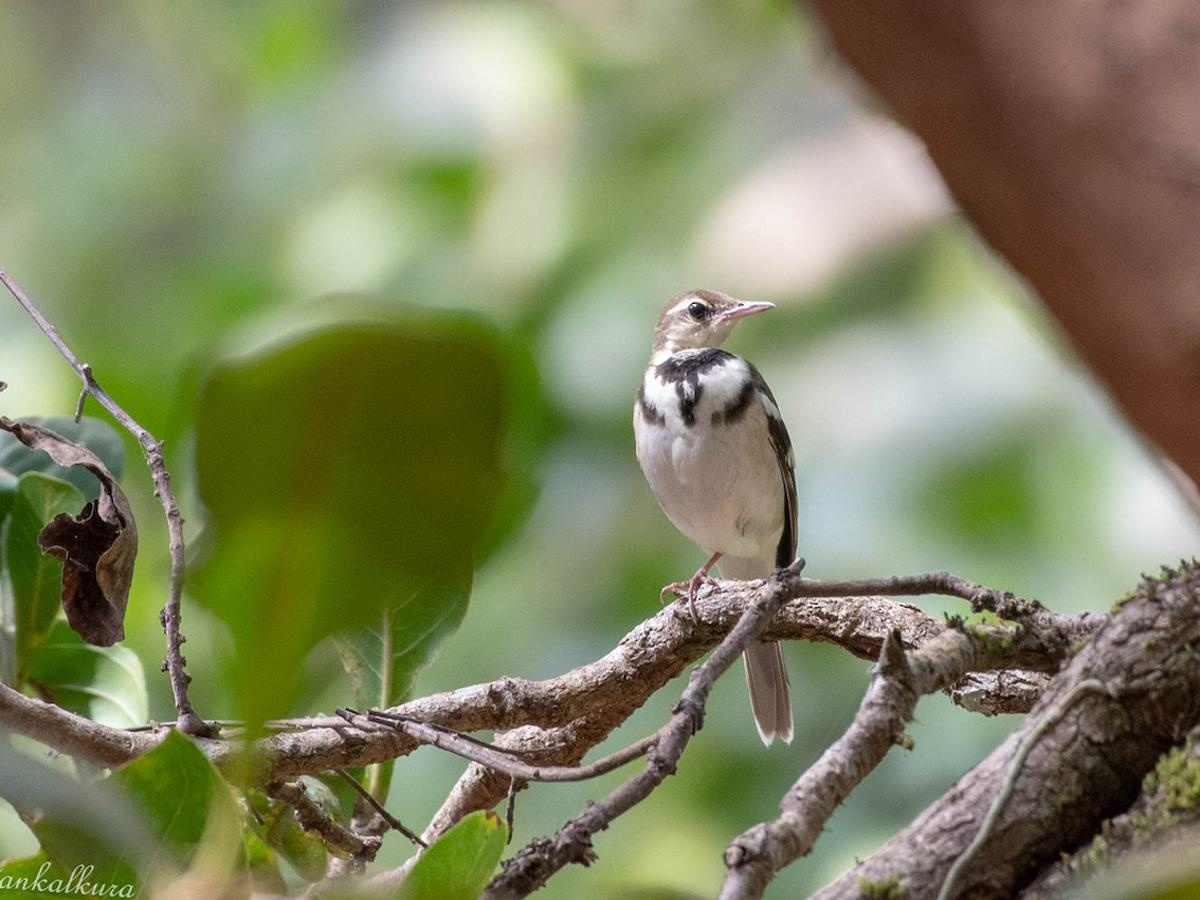wagtail: (605, 264, 839, 722)
